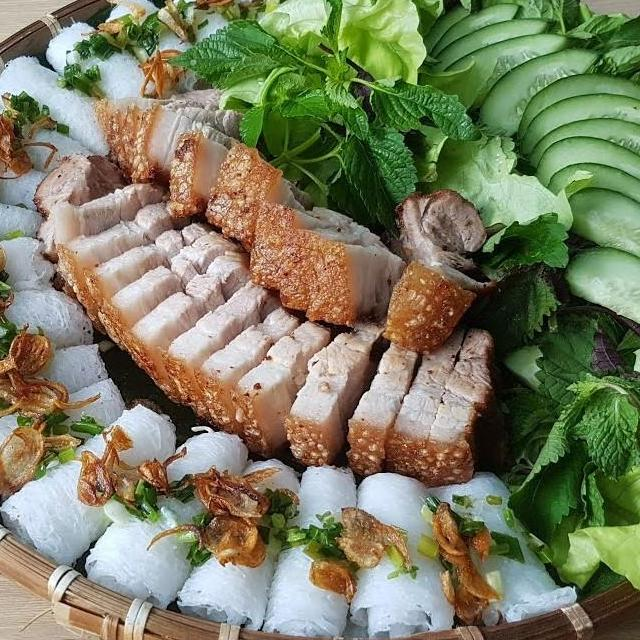banh hoi: (78, 418, 256, 620), (0, 396, 186, 579), (421, 462, 584, 630), (172, 445, 306, 640), (337, 463, 460, 640), (256, 459, 373, 640), (0, 372, 134, 515), (0, 46, 121, 160), (38, 13, 166, 114), (0, 274, 104, 390), (0, 331, 114, 436), (96, 0, 214, 97), (0, 92, 101, 182), (158, 0, 291, 53), (0, 133, 64, 223), (0, 230, 64, 319), (0, 181, 54, 250)
banh hoi heo quay: (0, 6, 640, 640)
thit heo quay: (89, 80, 505, 360), (153, 276, 499, 488), (28, 146, 286, 402)
